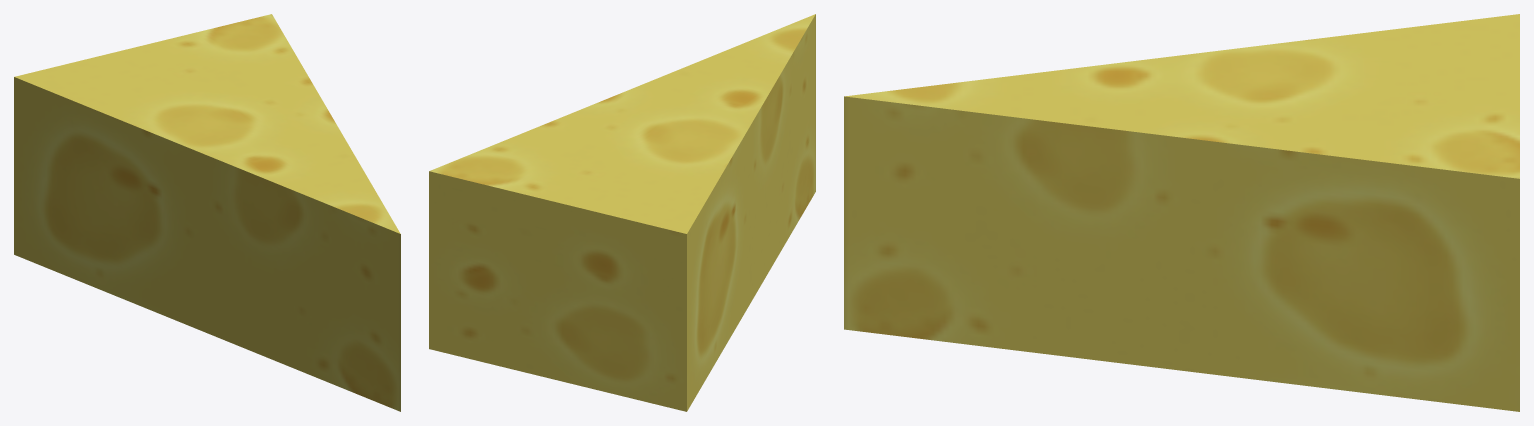
The model's file is Cheese02.fbx.
The picture shows the model from 3 angles, left to right: view 1: azimuth 30°, elevation 25°; view 2: azimuth 150°, elevation 25°; view 3: azimuth 270°, elevation 25°; orthographic projection. The views are drawn at different scales.
Parts seen in each view (by area): view 1: Cheese02; view 2: Cheese02; view 3: Cheese02.
Part boxes in pixels (left/top/right/bottom): Cheese02: left=14, top=14, right=400, bottom=411; Cheese02: left=429, top=14, right=815, bottom=411; Cheese02: left=844, top=14, right=1519, bottom=411.
Bounding box in the file's own units: 0.1082 × 0.0713 × 0.1874.
